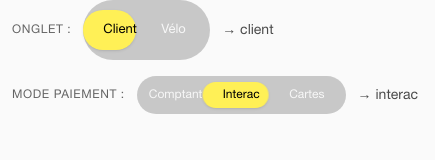
Test: UiKitPillsToggle › clic 'Cartes' → état change à 'cartes'
Click the radio button "Cartes".
click(307, 95)  # box x1=274 y1=82 x2=340 y2=108
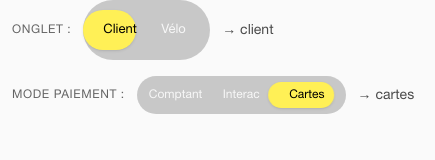
expect the text "→ cartes" is shown: met, box x1=358 y1=85 x2=414 y2=105
